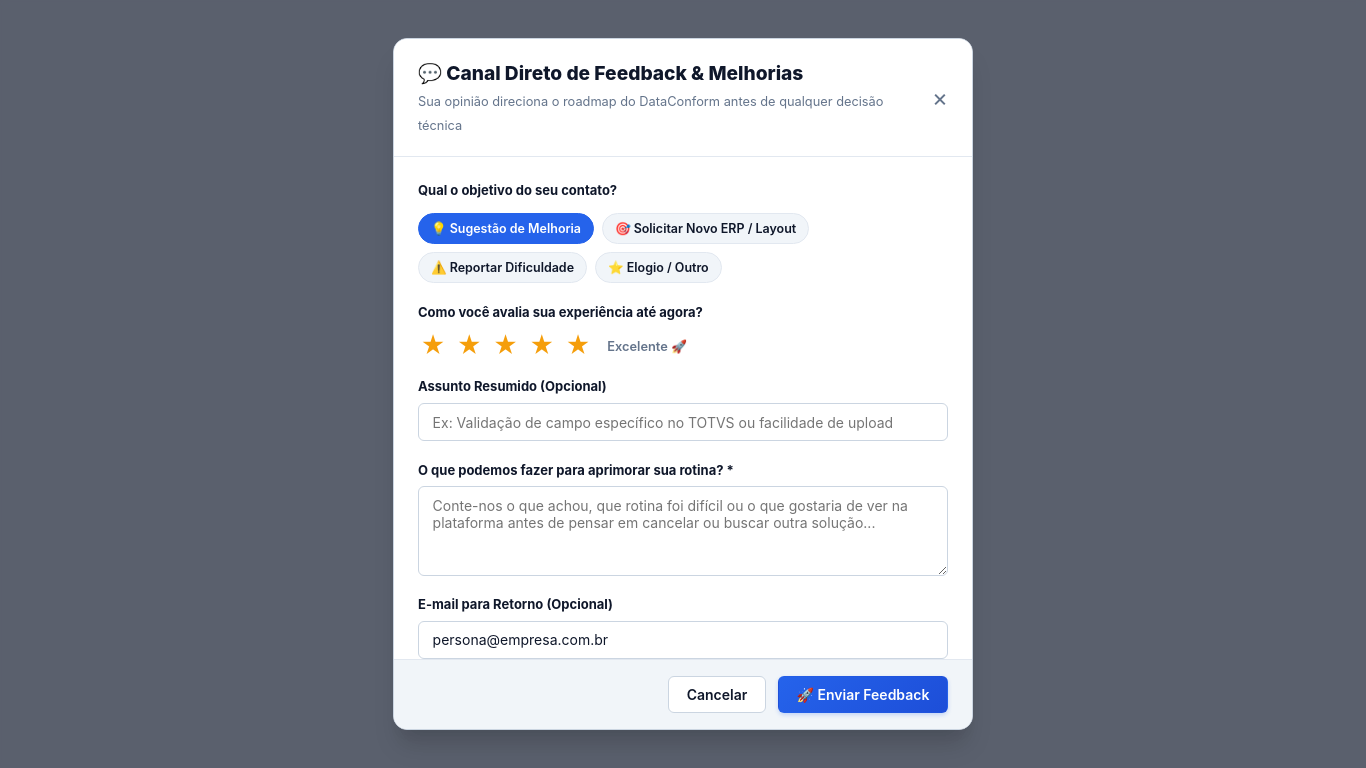
FeedbackModal › envia o feedback para a API e exibe a tela de agradecimento
The width and height of the screenshot is (1366, 768).
Type "Ótimo produto" into the text box labelled "O que podemos fazer para aprimorar sua rotina? *".
click(683, 531); type("Ótimo produto")  # box [418,486,948,576]
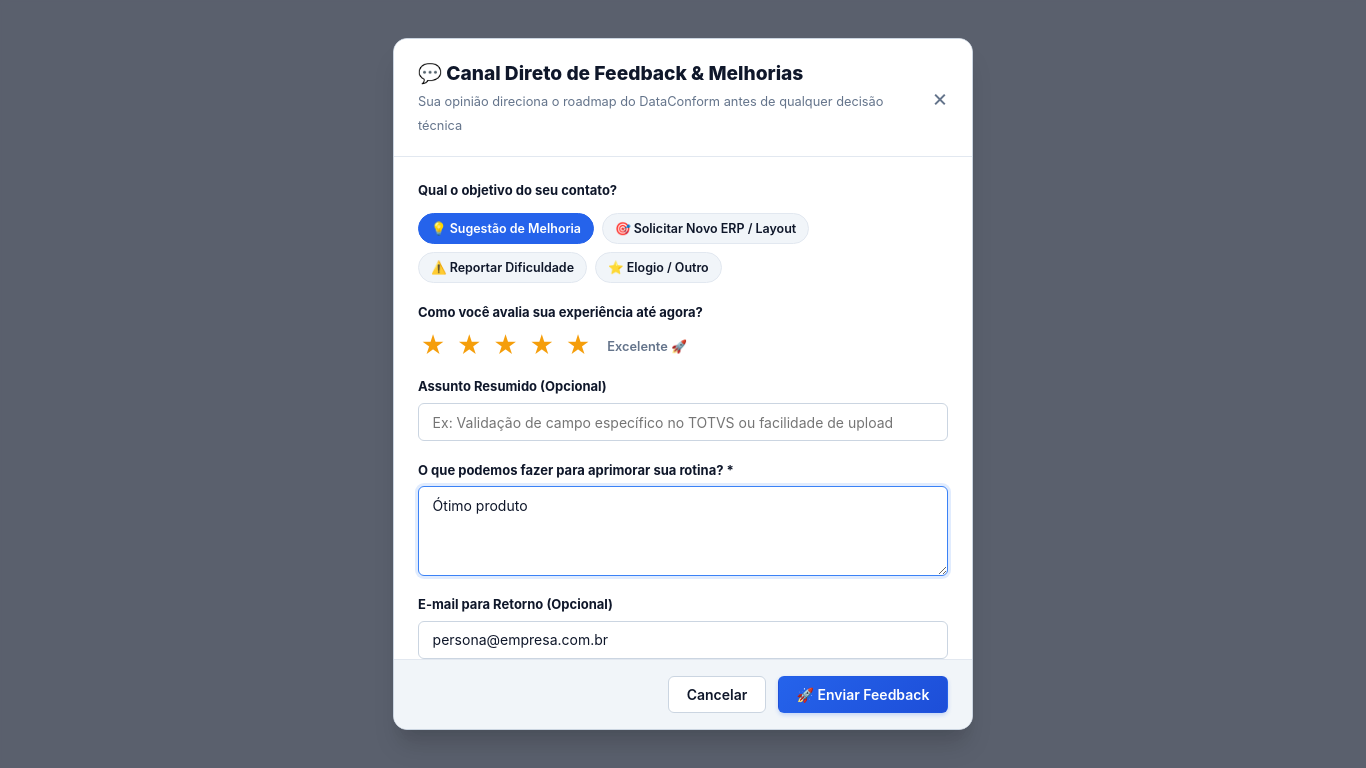
Click the button "🚀 Enviar Feedback".
click(863, 694)  # box [778,676,948,713]
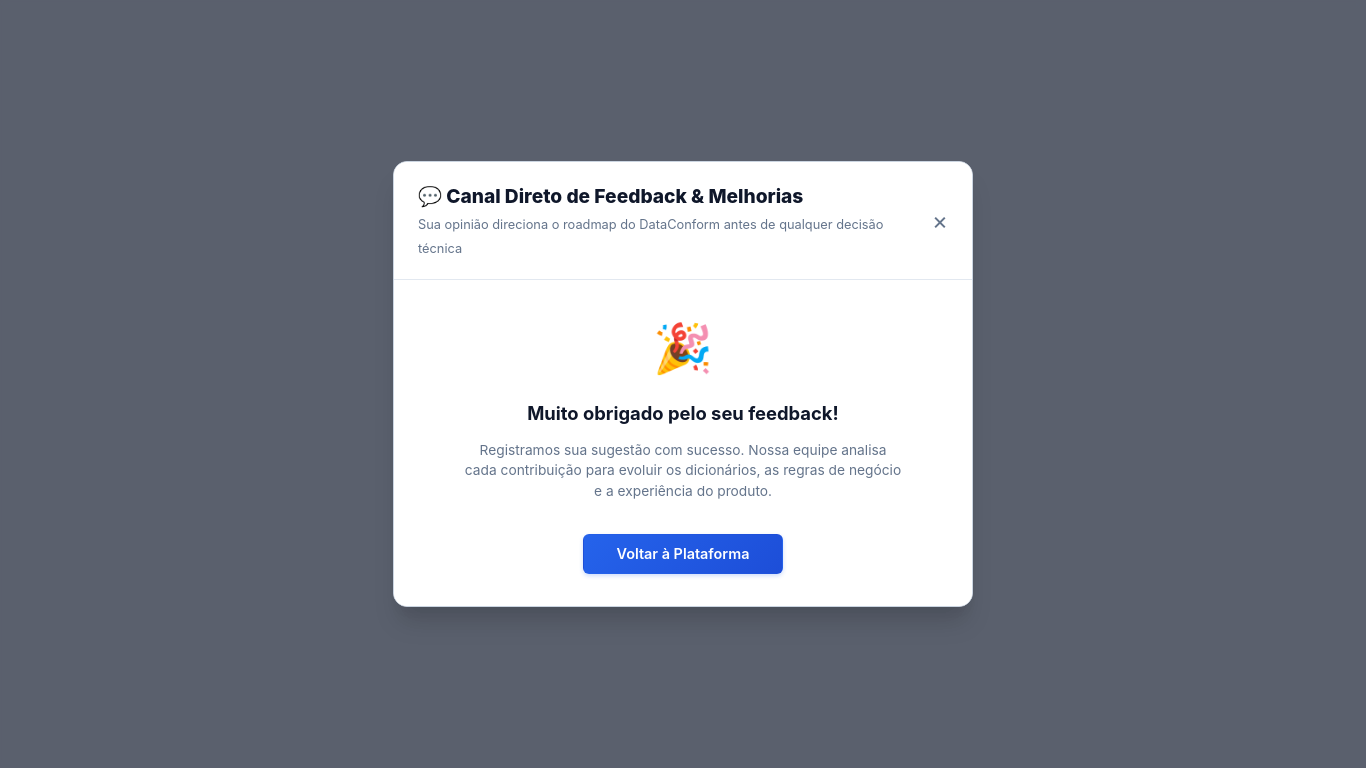
Result: the heading "Muito obrigado pelo seu feedback!" is shown at [527,400,839,428]
